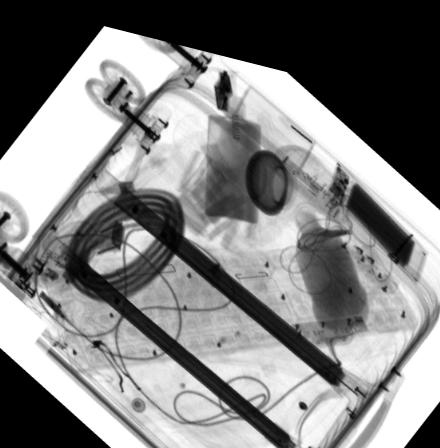Powerbank: (326, 144, 426, 262)
